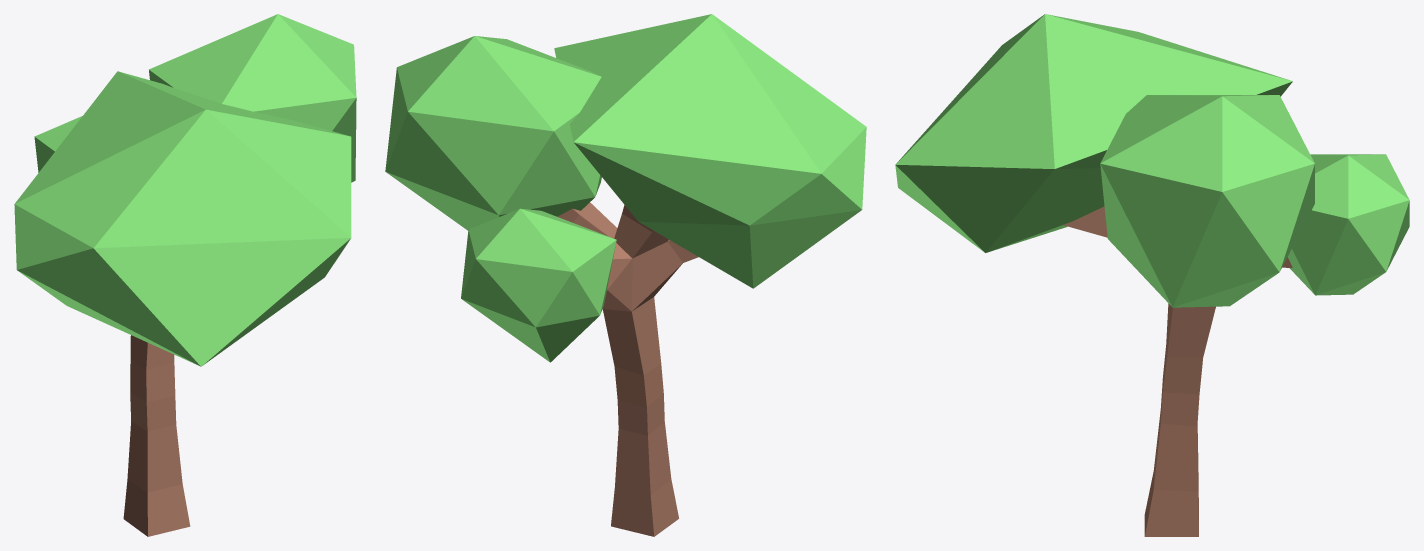
Rendered from boom.fbx.
3 renders of one model, left to right at view 1: azimuth 30°, elevation 25°; view 2: azimuth 150°, elevation 25°; view 3: azimuth 270°, elevation 25°, orthographic. The views are drawn at different scales.
Visible parts, largest first — view 1: Boom1; view 2: Boom1; view 3: Boom1.
Part boxes in pixels (box(x1,y1,x2,y2)): Boom1: box(14, 14, 356, 536); Boom1: box(385, 14, 866, 536); Boom1: box(895, 14, 1409, 536).
Size of the model in its own units: 5.44 by 6 by 5.52.
